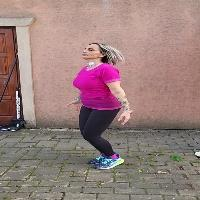jumping_jacks: (59, 35, 152, 173)
